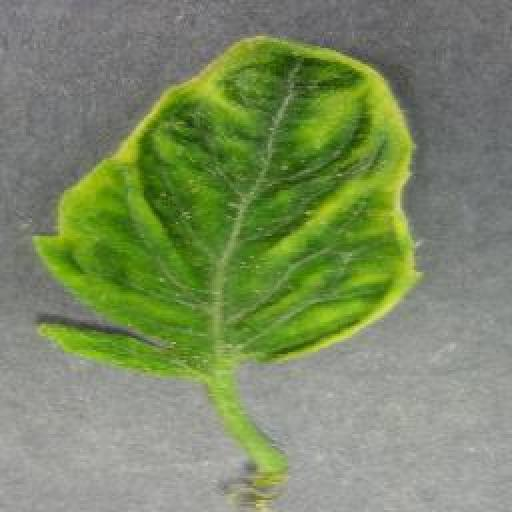Yellow Leaf Curl Virus: (36, 31, 426, 376)
